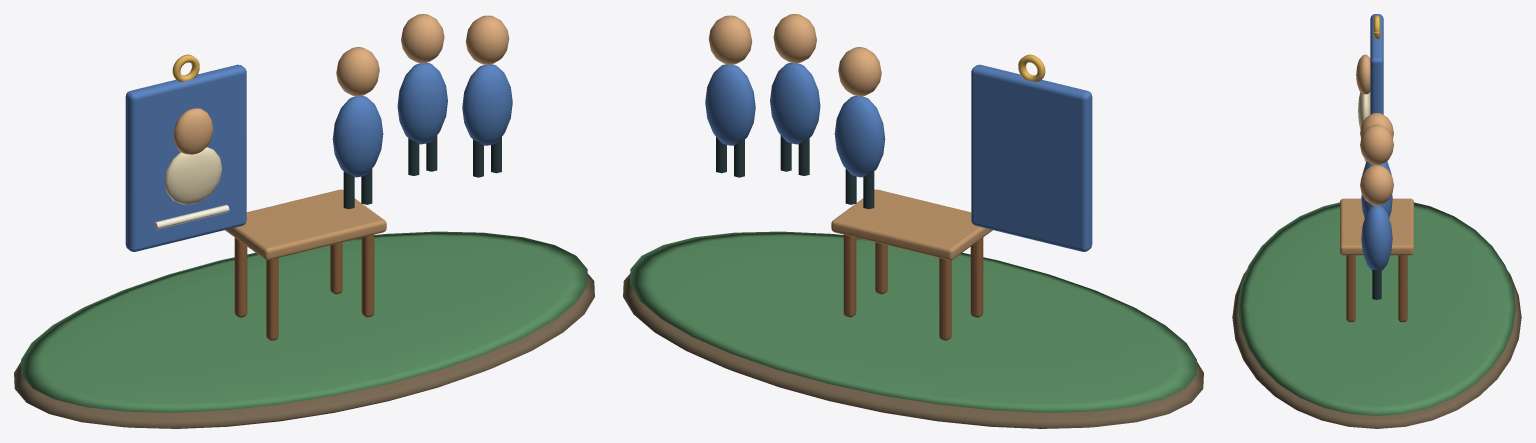
File: complete-first-we-group.glb
3 renders of one model, left to right at view 1: azimuth 30°, elevation 25°; view 2: azimuth 150°, elevation 25°; view 3: azimuth 270°, elevation 25°, orthographic. The views are drawn at different scales.
Visible parts, largest first — view 1: complete-first-we-group_surface_01, complete-first-we-group_surface_02, complete-first-we-group_surface_00, complete-first-we-group_surface_03, complete-first-we-group_surface_08, complete-first-we-group_surface_09, complete-first-we-group_surface_04, complete-first-we-group_surface_07, complete-first-we-group_surface_05; view 2: complete-first-we-group_surface_01, complete-first-we-group_surface_02, complete-first-we-group_surface_00, complete-first-we-group_surface_08, complete-first-we-group_surface_03, complete-first-we-group_surface_09, complete-first-we-group_surface_07; view 3: complete-first-we-group_surface_01, complete-first-we-group_surface_00, complete-first-we-group_surface_02, complete-first-we-group_surface_03, complete-first-we-group_surface_08, complete-first-we-group_surface_09, complete-first-we-group_surface_04, complete-first-we-group_surface_07.
Part boxes in pixels (x1,y1,x2,y2): complete-first-we-group_surface_01: (21, 231, 587, 412); complete-first-we-group_surface_02: (125, 63, 512, 251); complete-first-we-group_surface_00: (14, 273, 594, 428); complete-first-we-group_surface_03: (173, 14, 509, 154); complete-first-we-group_surface_08: (225, 189, 386, 260); complete-first-we-group_surface_09: (234, 234, 374, 340); complete-first-we-group_surface_04: (164, 147, 222, 204); complete-first-we-group_surface_07: (343, 135, 501, 209); complete-first-we-group_surface_05: (154, 204, 229, 229); complete-first-we-group_surface_01: (630, 231, 1196, 412); complete-first-we-group_surface_02: (705, 63, 1092, 251); complete-first-we-group_surface_00: (623, 273, 1203, 428); complete-first-we-group_surface_08: (831, 189, 992, 260); complete-first-we-group_surface_03: (708, 14, 881, 96); complete-first-we-group_surface_09: (843, 234, 983, 340); complete-first-we-group_surface_07: (716, 135, 874, 209); complete-first-we-group_surface_01: (1238, 202, 1515, 415); complete-first-we-group_surface_00: (1232, 270, 1521, 428); complete-first-we-group_surface_02: (1361, 14, 1392, 270); complete-first-we-group_surface_03: (1356, 54, 1393, 205); complete-first-we-group_surface_08: (1340, 198, 1413, 255); complete-first-we-group_surface_09: (1346, 255, 1407, 322); complete-first-we-group_surface_04: (1358, 92, 1370, 129); complete-first-we-group_surface_07: (1372, 269, 1381, 299).
Size of the model in its own units: 4.56 by 2.54 by 2.5.
